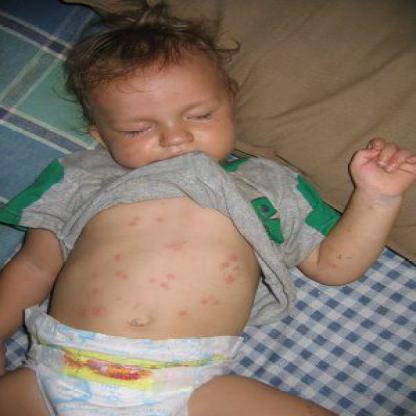Bed Bug: (212, 252, 242, 284), (147, 268, 176, 294), (74, 302, 110, 318), (164, 236, 192, 254), (200, 292, 226, 308), (83, 284, 104, 298), (127, 214, 142, 230), (152, 211, 168, 225), (66, 252, 82, 266), (108, 251, 130, 261), (174, 304, 190, 316), (112, 269, 133, 278), (86, 269, 102, 280), (111, 291, 123, 301)
